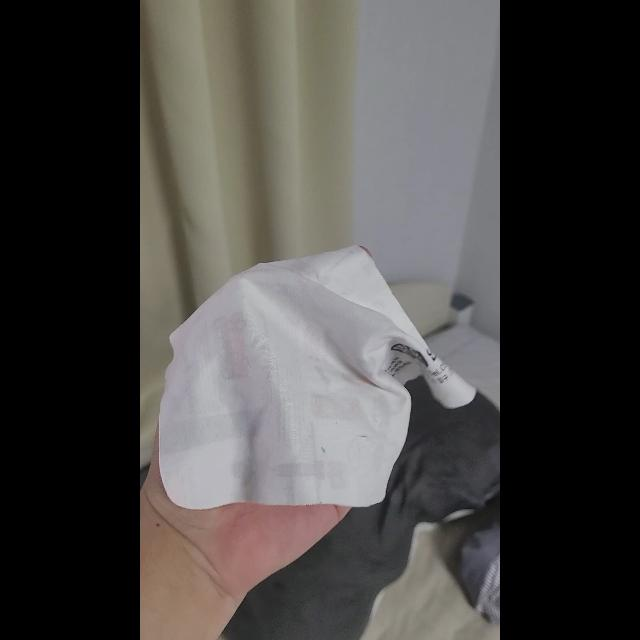Glasses cleaning cloth: (158, 244, 476, 508)
